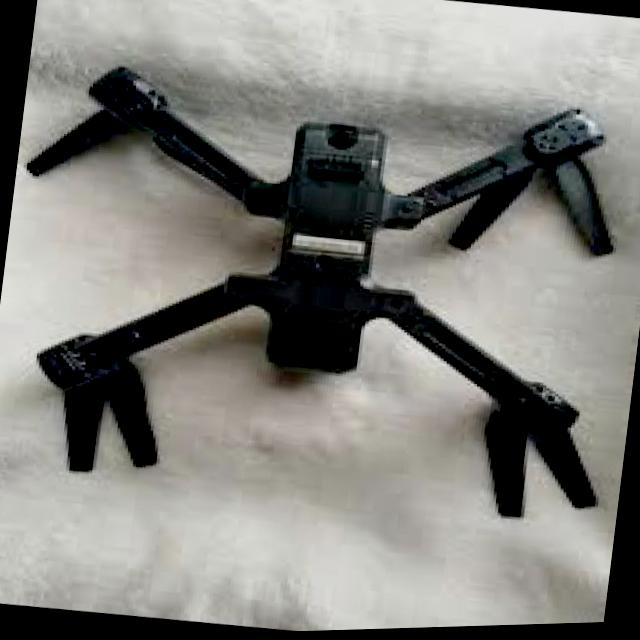drone: (0, 11, 640, 558)
